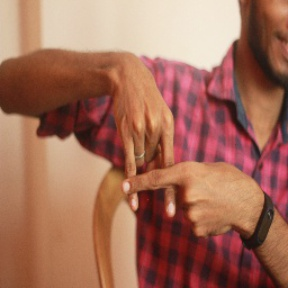H: (98, 114, 205, 219)
